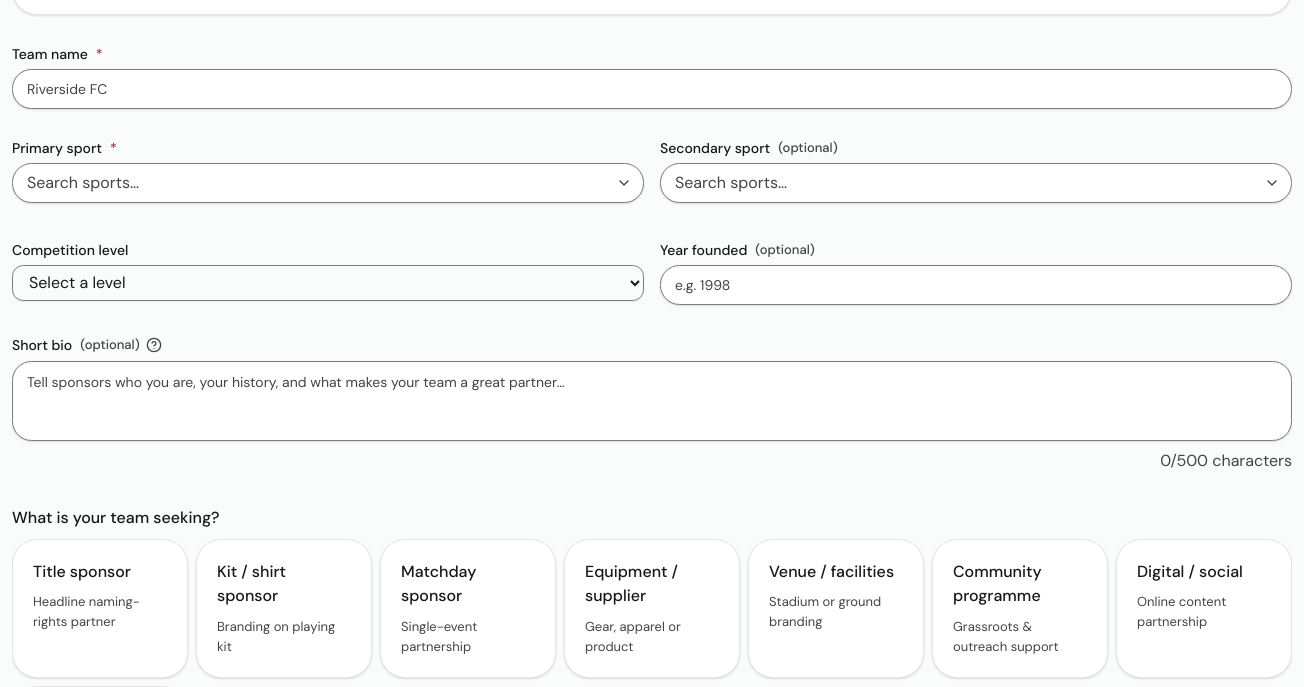
Test: TeamProfileForm (TM1) › shows a live 0/500 character counter and a help tooltip for the bio
This screenshot has width=1304, height=687.
(page scrolled)
Expected: the text "0/500 characters" is shown, [1160,449,1292,474]
Expected: the button named "about the bio" is shown, [146,337,162,353]
Step 1. Type "Hello" into the text box labelled "Short bio (optional)" → coordinates (652, 401), box [12,361,1292,441]
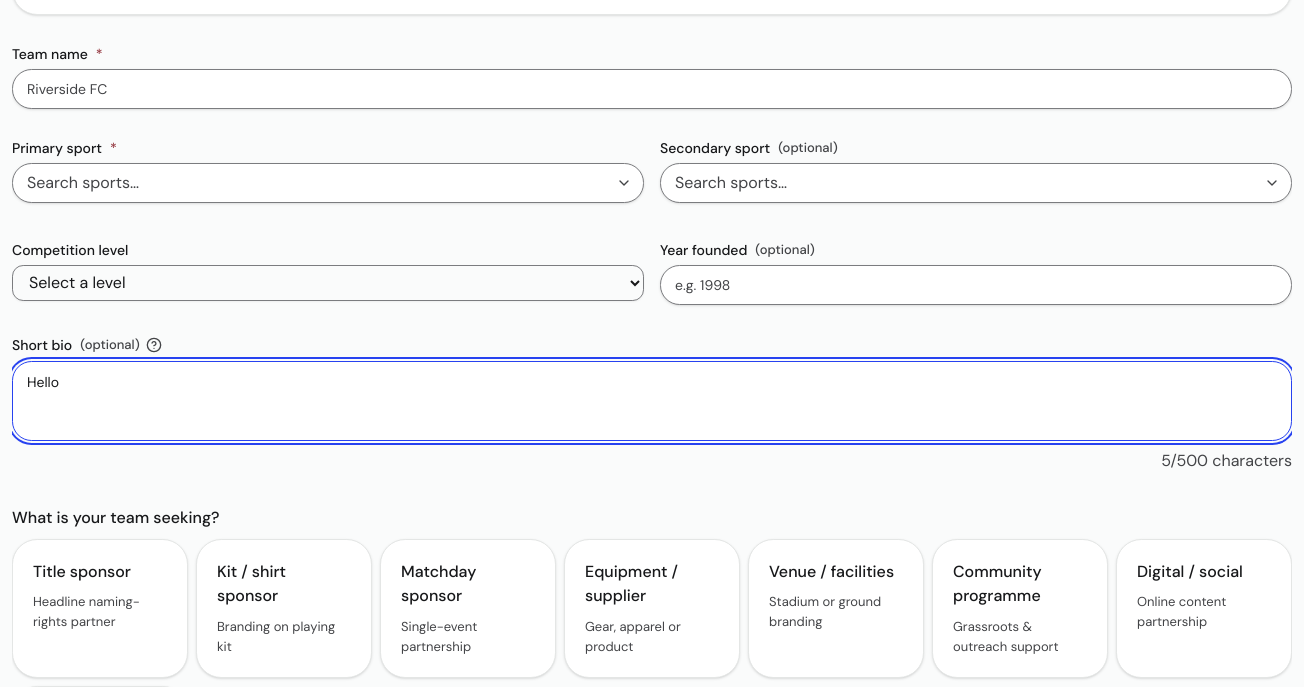
Expected: the text "5/500 characters" is shown, [1161,449,1292,474]
